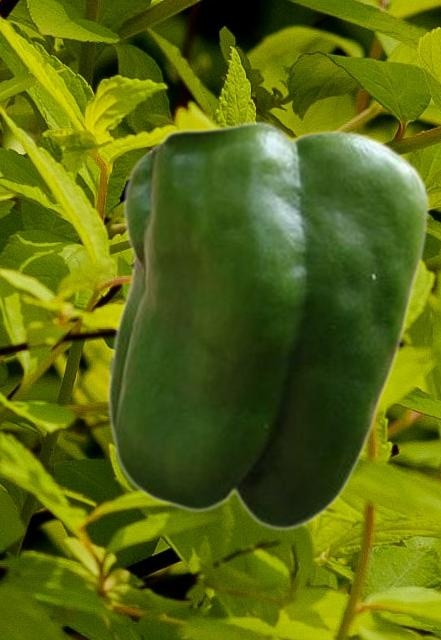bell_pepper: (106, 120, 430, 530)
